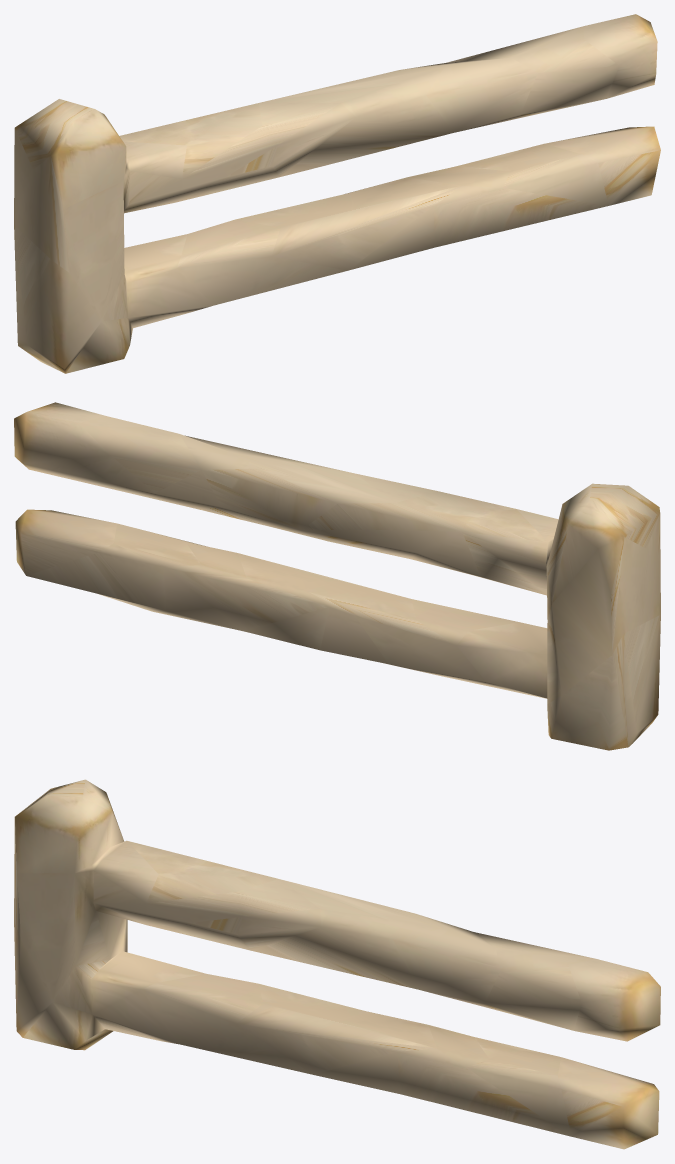
Rendered from fence-lite.glb.
The picture shows the model from 3 angles, top to bottom: view 1: azimuth 30°, elevation 25°; view 2: azimuth 150°, elevation 25°; view 3: azimuth 330°, elevation 25°; orthographic projection.
Parts seen in each view (by area): view 1: tripo_node_55770d52-07b5-4ddc-9917-7e2108ed7f3b; view 2: tripo_node_55770d52-07b5-4ddc-9917-7e2108ed7f3b; view 3: tripo_node_55770d52-07b5-4ddc-9917-7e2108ed7f3b.
Part boxes in pixels (box(x1,y1,x2,y2)): tripo_node_55770d52-07b5-4ddc-9917-7e2108ed7f3b: box(14, 14, 660, 373); tripo_node_55770d52-07b5-4ddc-9917-7e2108ed7f3b: box(14, 402, 660, 750); tripo_node_55770d52-07b5-4ddc-9917-7e2108ed7f3b: box(14, 779, 660, 1149).
Size of the model in its own units: 2.14 by 0.8 by 0.292.
1 material, 1 textured.
